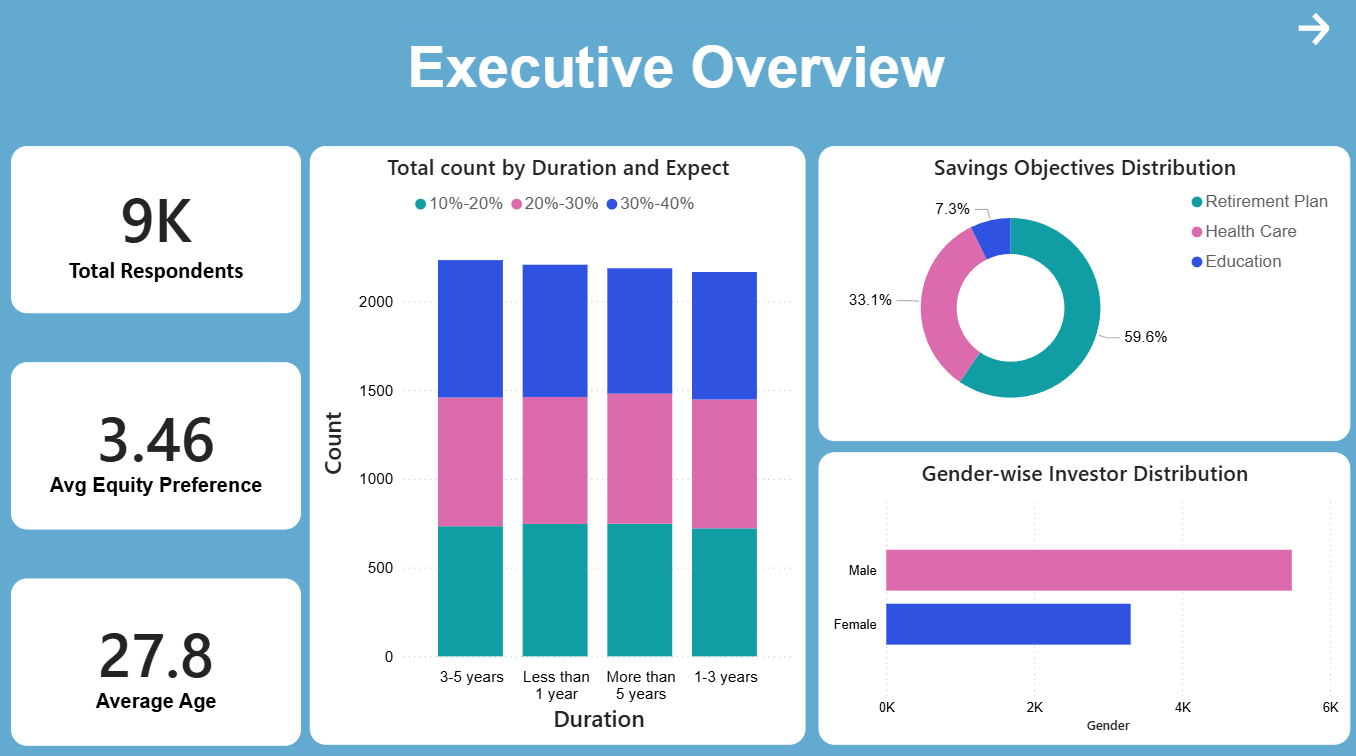

The dashboard page shown, as its layout file describes it:
{"tool":"powerbi","page":{"name":"Executive Overview","canvas":[1280,720],"ordinal":0},"visuals":[{"type":"card","fields":{"Values":["final_data.Total Respondents"]},"box":[14.5,144.8,270.2,155.6],"z":0},{"type":"card","fields":{"Values":["final_data.Average Age"]},"box":[14.5,547.7,270.2,155.6],"z":1000},{"type":"card","fields":{"Values":["final_data.Avg Equity Preference"]},"box":[14.5,346.2,270.2,155.6],"z":2000},{"type":"donutChart","title":"Savings Objectives Distribution","fields":{"Category":["final_data.Savings_Objective"],"Y":["final_data.Respondent Count"]},"box":[767.3,144.8,495.8,275.1],"z":3000},{"type":"clusteredBarChart","title":"Gender-wise Investor Distribution","fields":{"Category":["final_data.gender"],"Y":["CountNonNull(final_data.gender)"]},"box":[767.3,430.7,495.8,272.7],"z":4000},{"type":"columnChart","title":"Total count by Duration and Expect","fields":{"Y":["final_data.Respondent Count"],"Category":["final_data.Duration"],"Series":["final_data.Expect"]},"box":[293.2,144.8,462.1,558.6],"z":5000},{"type":"textbox","box":[378.8,36.2,520,77.2],"z":6000},{"type":"actionButton","box":[1194.4,16.9,68.8,38.6],"z":7000}]}

Visuals, with their boxes in screenshot pixels (x1, y1, x2, y2), scaled from the page's 1280x720 canvas onto the 1356x756 screenshot:
card - final_data.Total Respondents: x1=15 y1=152 x2=302 y2=315
card - final_data.Average Age: x1=15 y1=575 x2=302 y2=738
card - final_data.Avg Equity Preference: x1=15 y1=364 x2=302 y2=527
"Savings Objectives Distribution" donutChart: x1=813 y1=152 x2=1338 y2=441
"Gender-wise Investor Distribution" clusteredBarChart: x1=813 y1=452 x2=1338 y2=739
"Total count by Duration and Expect" columnChart: x1=311 y1=152 x2=800 y2=739
textbox: x1=401 y1=38 x2=952 y2=119
actionButton: x1=1265 y1=18 x2=1338 y2=58
